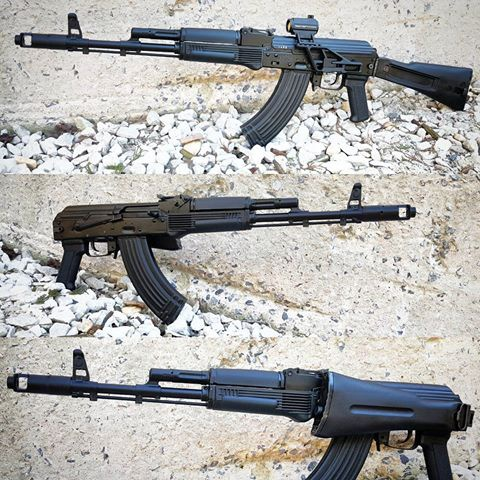ak47: (9, 16, 475, 147), (10, 349, 475, 480), (55, 183, 416, 323)
